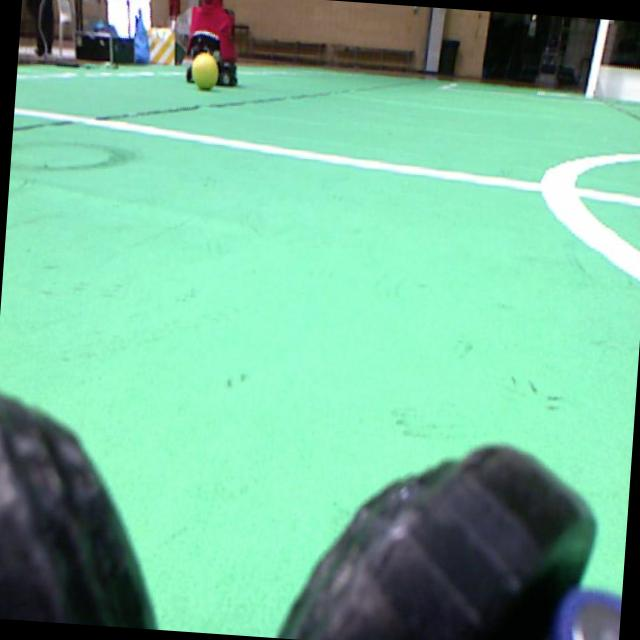ball: (191, 52, 217, 89)
goal: (584, 19, 609, 97)
